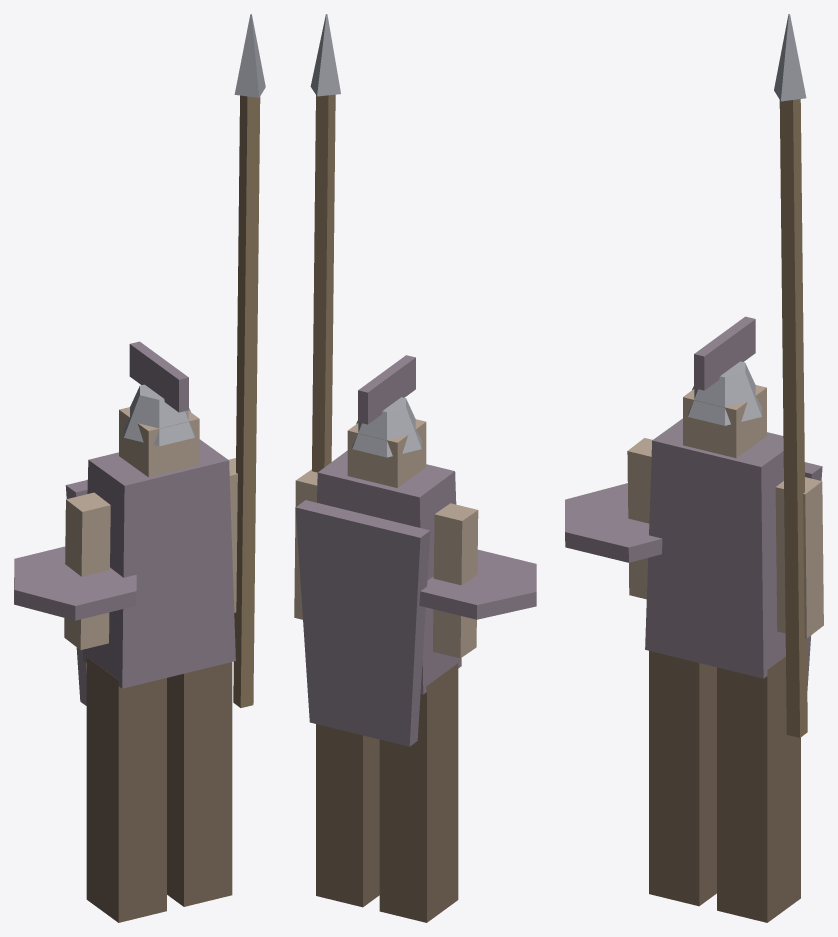
Rendered from founders.glb.
The picture shows the model from 3 angles, left to right: view 1: azimuth 30°, elevation 25°; view 2: azimuth 150°, elevation 25°; view 3: azimuth 330°, elevation 25°; orthographic projection. The views are drawn at different scales.
Visible parts, largest first — view 1: founders; view 2: founders; view 3: founders.
Boxes of the visible parts, x1=… form: founders: x1=14, y1=14, x2=265, y2=922; founders: x1=294, y1=14, x2=536, y2=922; founders: x1=565, y1=14, x2=823, y2=922.
Size of the model in its own units: 0.85 by 2.94 by 0.3923.
